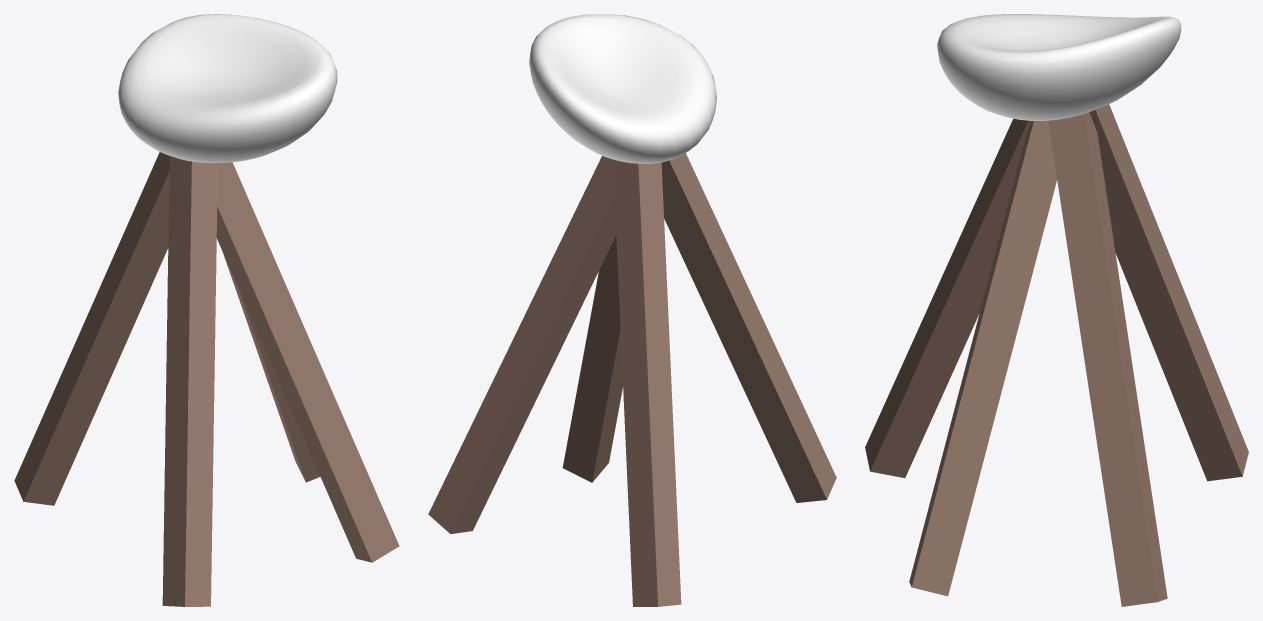
Rendered from chair.fbx.
3 renders of one model, left to right at view 1: azimuth 30°, elevation 25°; view 2: azimuth 150°, elevation 25°; view 3: azimuth 270°, elevation 25°, orthographic. The views are drawn at different scales.
Parts seen in each view (by area): view 1: highchair1; view 2: highchair1; view 3: highchair1.
Boxes of the visible parts, <box> form: highchair1: <box>14,14,399,606</box>; highchair1: <box>428,14,836,606</box>; highchair1: <box>865,14,1248,606</box>.
Size of the model in its own units: 155 by 258 by 166.
